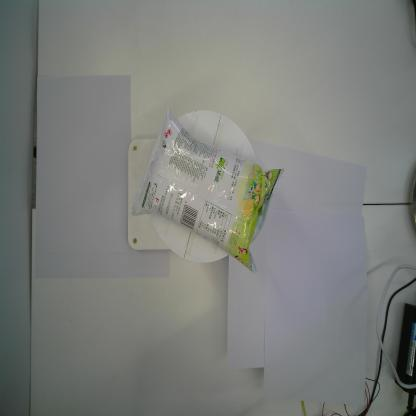Puffed Food: (130, 106, 285, 276)
